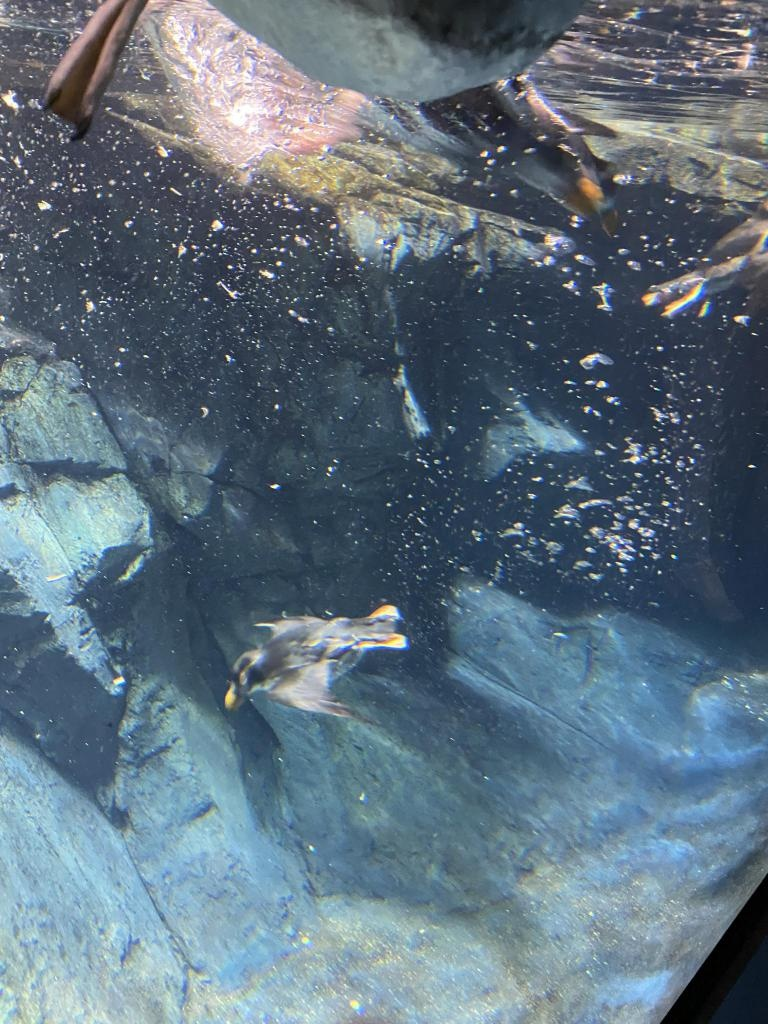puffin: (39, 0, 615, 229), (224, 604, 406, 720), (645, 196, 768, 322)
